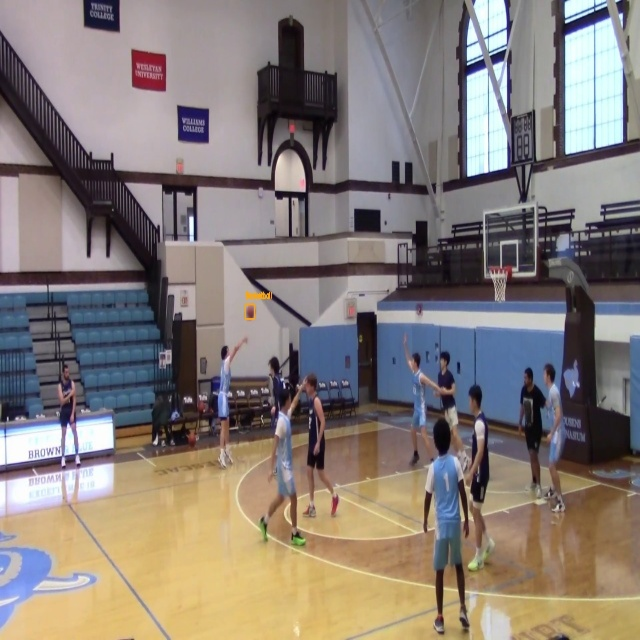Basketball: (245, 304, 255, 319)
